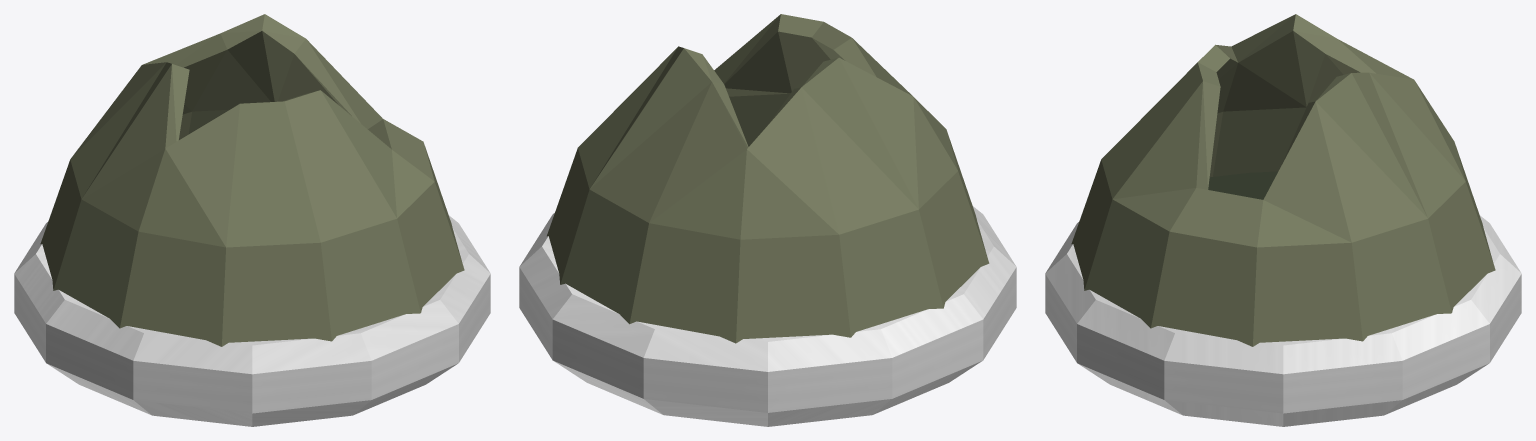
The model's file is broken_beacon_b.obj.
3 renders of one model, left to right at view 1: azimuth 30°, elevation 25°; view 2: azimuth 150°, elevation 25°; view 3: azimuth 270°, elevation 25°, orthographic. The views are drawn at different scales.
Visible parts, largest first — view 1: broken_beacon_b; view 2: broken_beacon_b; view 3: broken_beacon_b.
Part boxes in pixels (bbox=[...]): broken_beacon_b: bbox=[14, 14, 490, 426]; broken_beacon_b: bbox=[519, 14, 1016, 426]; broken_beacon_b: bbox=[1045, 14, 1521, 426].
Bounding box in the file's own units: 0.88 × 0.595 × 0.88.
